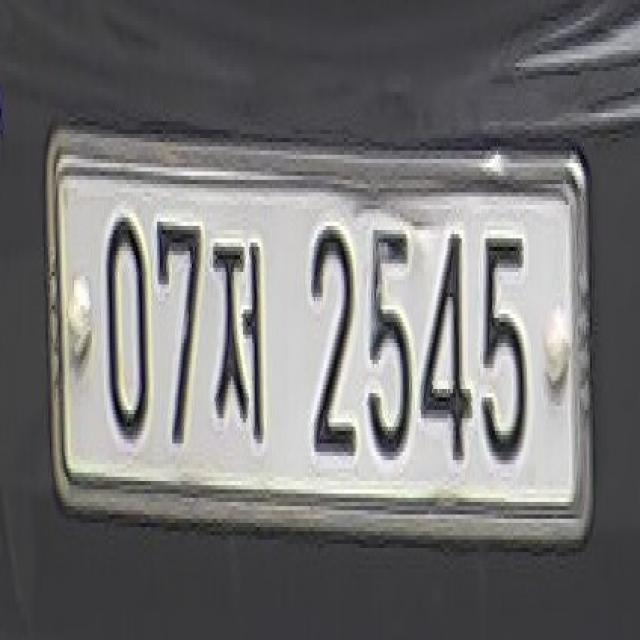0: (100, 207, 154, 460)
2: (300, 214, 360, 483)
4: (416, 221, 476, 478)
5: (480, 222, 538, 479), (362, 203, 412, 472)
7: (156, 211, 208, 479)
jeo: (210, 222, 274, 468)
license_plate: (29, 105, 606, 552)
